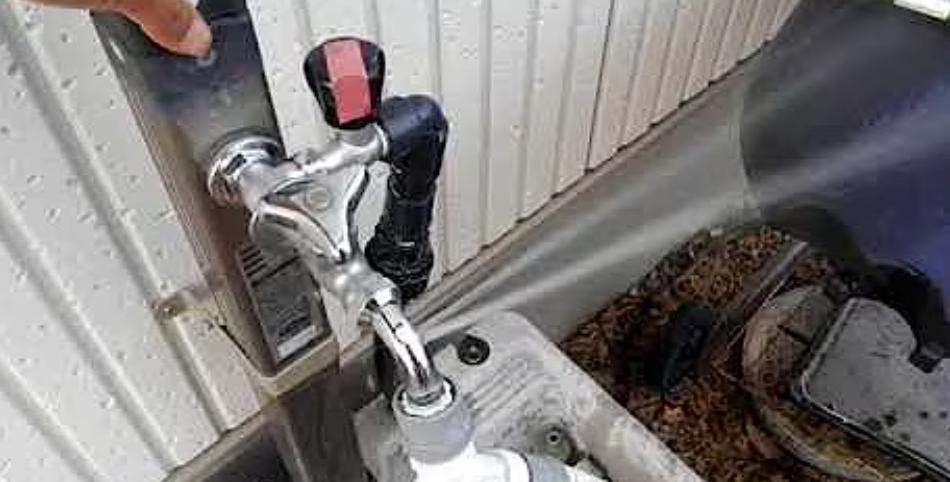pipe burst: (407, 18, 950, 349)
